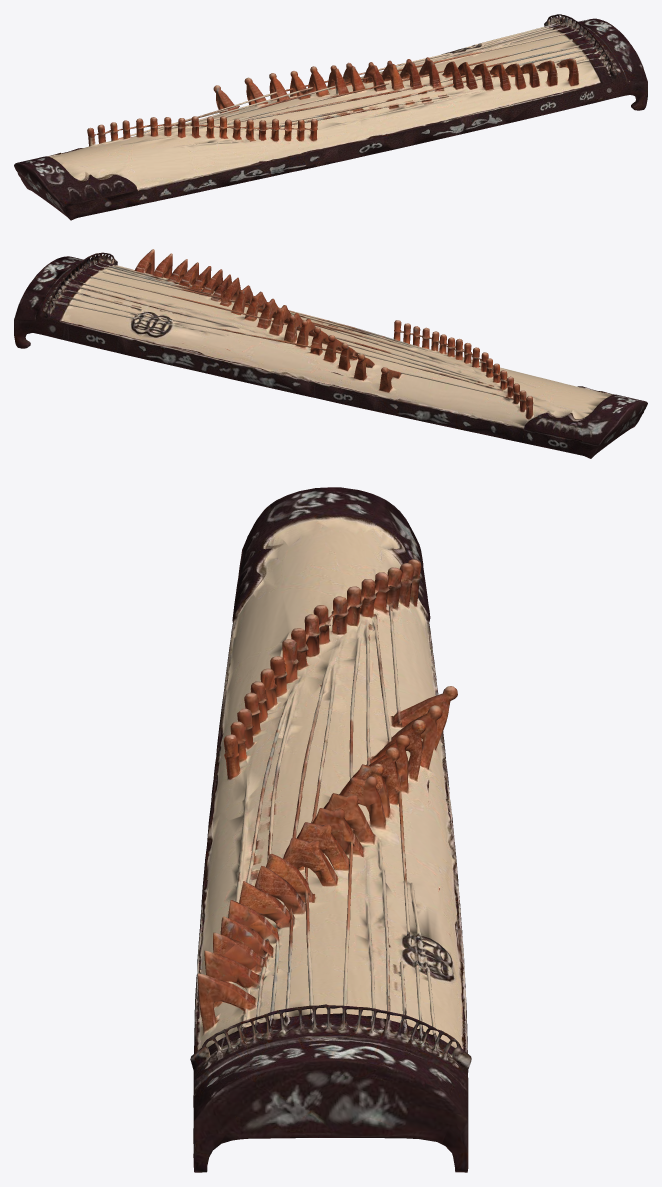
The model's file is zhetigen.glb.
The picture shows the model from 3 angles, top to bottom: view 1: azimuth 30°, elevation 25°; view 2: azimuth 150°, elevation 25°; view 3: azimuth 270°, elevation 25°; orthographic projection. The views are drawn at different scales.
Bounding box in the file's own units: 1.9 × 0.2366 × 0.3955.
1 material, 1 textured.
